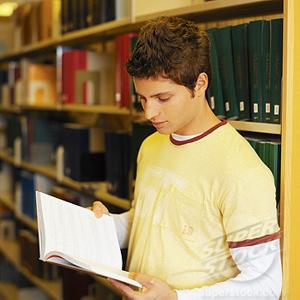person: (85, 18, 283, 300)
